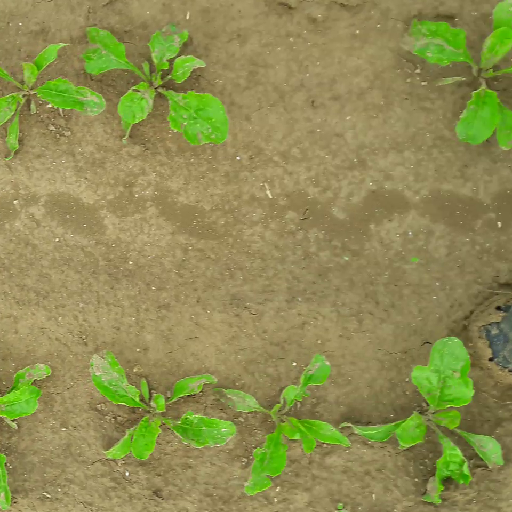sugarbeet: (335, 332, 509, 503), (209, 348, 348, 497), (81, 23, 234, 146), (78, 344, 239, 458), (402, 1, 512, 153), (1, 41, 108, 167)
